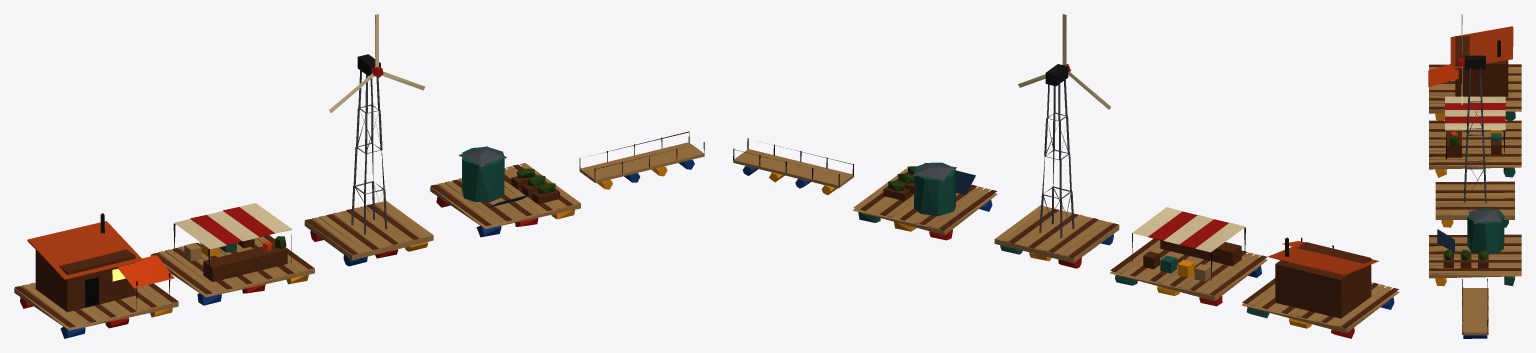
Rendered from tb_settlement_kit.three-web-toon.lod50.glb.
3 renders of one model, left to right at view 1: azimuth 30°, elevation 25°; view 2: azimuth 150°, elevation 25°; view 3: azimuth 270°, elevation 25°, orthographic. The views are drawn at different scales.
Visible parts, largest first — view 1: mod_shack_lod, mod_market_lod, mod_water_lod, mod_turbine_lod, mod_walkway_lod, mod_turbine_rotor_lod; view 2: mod_shack_lod, mod_market_lod, mod_water_lod, mod_turbine_lod, mod_walkway_lod, mod_turbine_rotor_lod; view 3: mod_market_lod, mod_shack_lod, mod_water_lod, mod_turbine_lod, mod_walkway_lod, mod_turbine_rotor_lod.
Part boxes in pixels (x1,y1,x2,y2): mod_shack_lod: (14,213,178,338); mod_market_lod: (150,203,314,305); mod_water_lod: (430,146,580,237); mod_turbine_lod: (304,54,433,266); mod_walkway_lod: (579,131,704,189); mod_turbine_rotor_lod: (329,14,425,112); mod_shack_lod: (1241,237,1399,338); mod_market_lod: (1110,207,1267,306); mod_water_lod: (853,162,997,240); mod_turbine_lod: (994,64,1119,268); mod_walkway_lod: (733,138,853,195); mod_turbine_rotor_lod: (1018,14,1110,109); mod_market_lod: (1429,96,1521,177); mod_shack_lod: (1428,26,1521,120); mod_water_lod: (1429,208,1521,286); mod_turbine_lod: (1435,55,1514,227); mod_walkway_lod: (1462,278,1488,338); mod_turbine_rotor_lod: (1458,14,1464,106).
Bounding box in the file's own units: 48.04 × 16.53 × 7.05.
